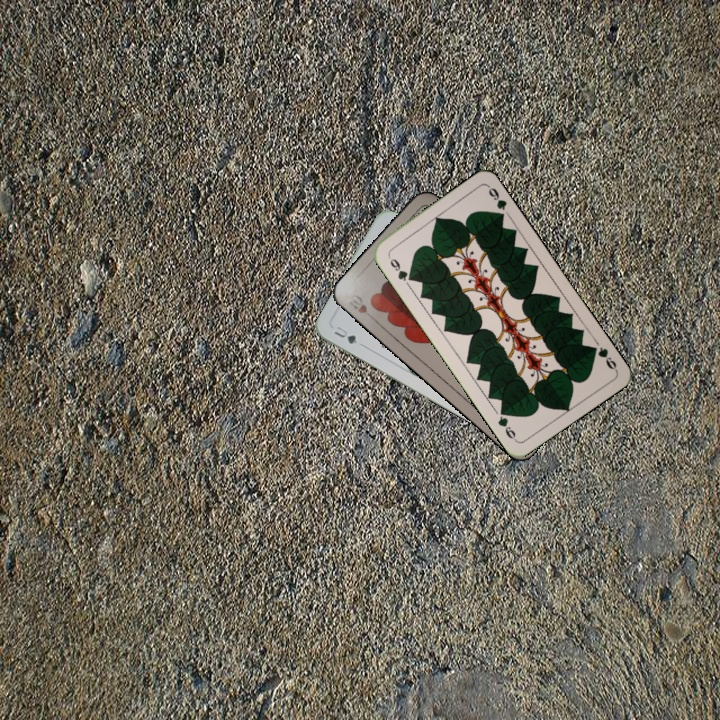G9: (586, 342, 620, 373), (384, 252, 416, 284)
GU: (330, 322, 360, 347)
H10: (342, 290, 377, 323)
